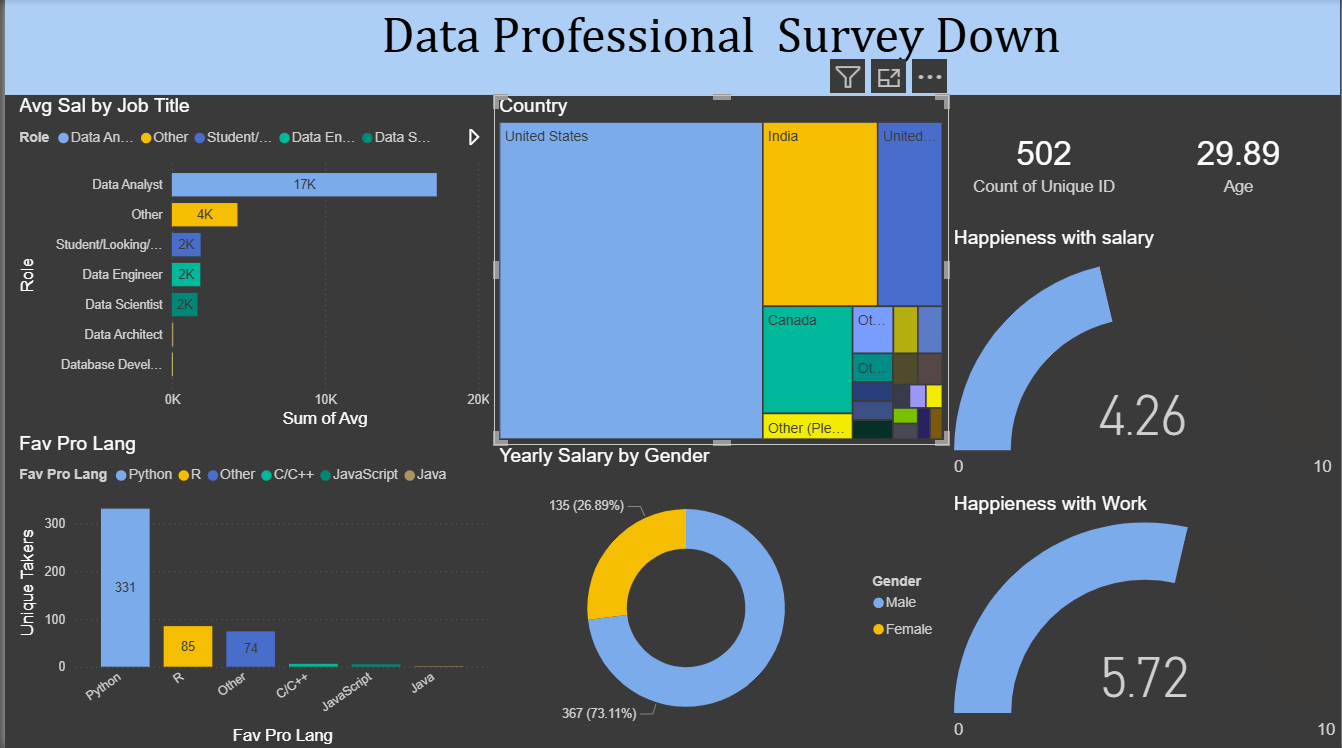

The page's visual inventory and layout, read from the dashboard file:
{"tool":"powerbi","page":{"name":"Page 1","canvas":[1280,720],"ordinal":0},"visuals":[{"type":"textbox","box":[0,0,1279.9,92],"z":0},{"type":"card","fields":{"Values":["Avg(Data Professional Survey.Q10 - Current Age)"]},"box":[1086.5,92.1,193,126.9],"z":1000},{"type":"card","fields":{"Values":["Count(Data Professional Survey.Unique ID)"]},"box":[903.9,92.1,182.5,126.9],"z":2000},{"type":"barChart","title":"Avg Sal by Job Title","fields":{"Category":["Data Professional Survey.Q1 - Which Title Best Fits your Current Role?.1"],"Y":["Sum(Data Professional Survey.Avg )"],"Series":["Data Professional Survey.Q1 - Which Title Best Fits your Current Role?.1"]},"box":[8.7,92.1,460.7,323.3],"z":3000},{"type":"columnChart","title":"Fav Pro Lang","fields":{"Category":["Data Professional Survey.Q5 - Favorite Programming Language.1"],"Y":["CountNonNull(Data Professional Survey.Unique ID)"],"Series":["Data Professional Survey.Q5 - Favorite Programming Language.1"]},"box":[8.7,415.5,460.7,304.2],"z":4000},{"type":"gauge","title":"Happieness with salary","fields":{"Y":["Avg(Data Professional Survey.Q6 - How Happy are you in your Current Position with the following? (Salary))"],"MinValue":["Min(Data Professional Survey.Q6 - How Happy are you in your Current Position with the following? (Salary))"],"MaxValue":["Max(Data Professional Survey.Q6 - How Happy are you in your Current Position with the following? (Salary))"]},"box":[903.9,219,372,253.8],"z":5000},{"type":"gauge","title":"Happieness with Work","fields":{"Y":["Avg(Data Professional Survey.Q6 - How Happy are you in your Current Position with the following? (Work/Life Balance))"],"MinValue":["Min(Data Professional Survey.Q6 - How Happy are you in your Current Position with the following? (Work/Life Balance))"],"MaxValue":["Max(Data Professional Survey.Q6 - How Happy are you in your Current Position with the following? (Work/Life Balance))"]},"box":[903.9,472.8,375.5,246.8],"z":6000},{"type":"donutChart","fields":{"Category":["Data Professional Survey.Q9 - Male/Female?"],"Y":["CountNonNull(Data Professional Survey.Q3 - Current Yearly Salary (in USD))"]},"box":[469.4,427.6,434.6,292],"z":7000},{"type":"treemap","title":"Country","fields":{"Group":["Data Professional Survey.Q11 - Which Country do you live in?"],"Values":["CountNonNull(Data Professional Survey.Q11 - Which Country do you live in?)"]},"box":[469.4,92.4,434.6,334.6],"z":8000}]}

Visuals, with their boxes in screenshot pixels (x1, y1, x2, y2), scaled from the page's 1280x720 canvas onto the 1342x748 screenshot:
textbox: bbox(0, 0, 1341, 96)
card - Avg(Data Professional Survey.Q10 - Current Age): bbox(1139, 96, 1341, 228)
card - Count(Data Professional Survey.Unique ID): bbox(948, 96, 1139, 228)
"Avg Sal by Job Title" barChart: bbox(9, 96, 492, 432)
"Fav Pro Lang" columnChart: bbox(9, 432, 492, 747)
"Happieness with salary" gauge: bbox(948, 228, 1338, 491)
"Happieness with Work" gauge: bbox(948, 491, 1341, 747)
donutChart - Data Professional Survey.Q9 - Male/Female? x CountNonNull(Data Professional Survey.Q3 - Current Yearly Salary (in USD)): bbox(492, 444, 948, 747)
"Country" treemap: bbox(492, 96, 948, 444)
